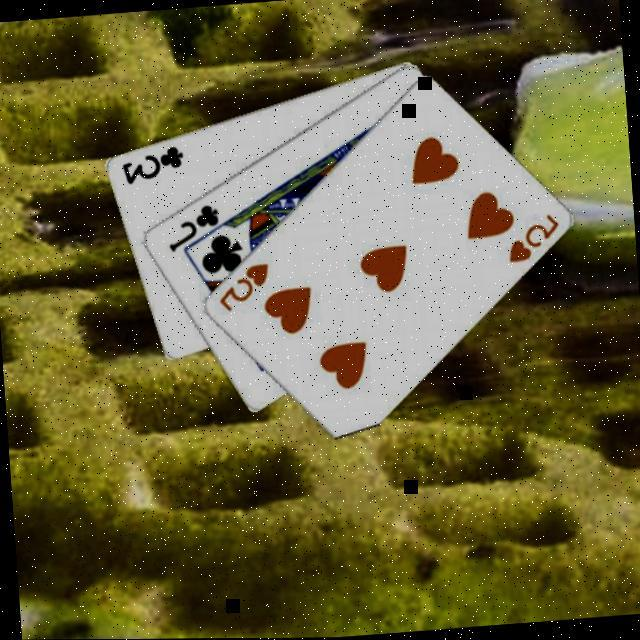3C: (117, 140, 188, 187)
5H: (214, 258, 275, 314), (503, 210, 564, 266)
JC: (163, 199, 224, 253)
